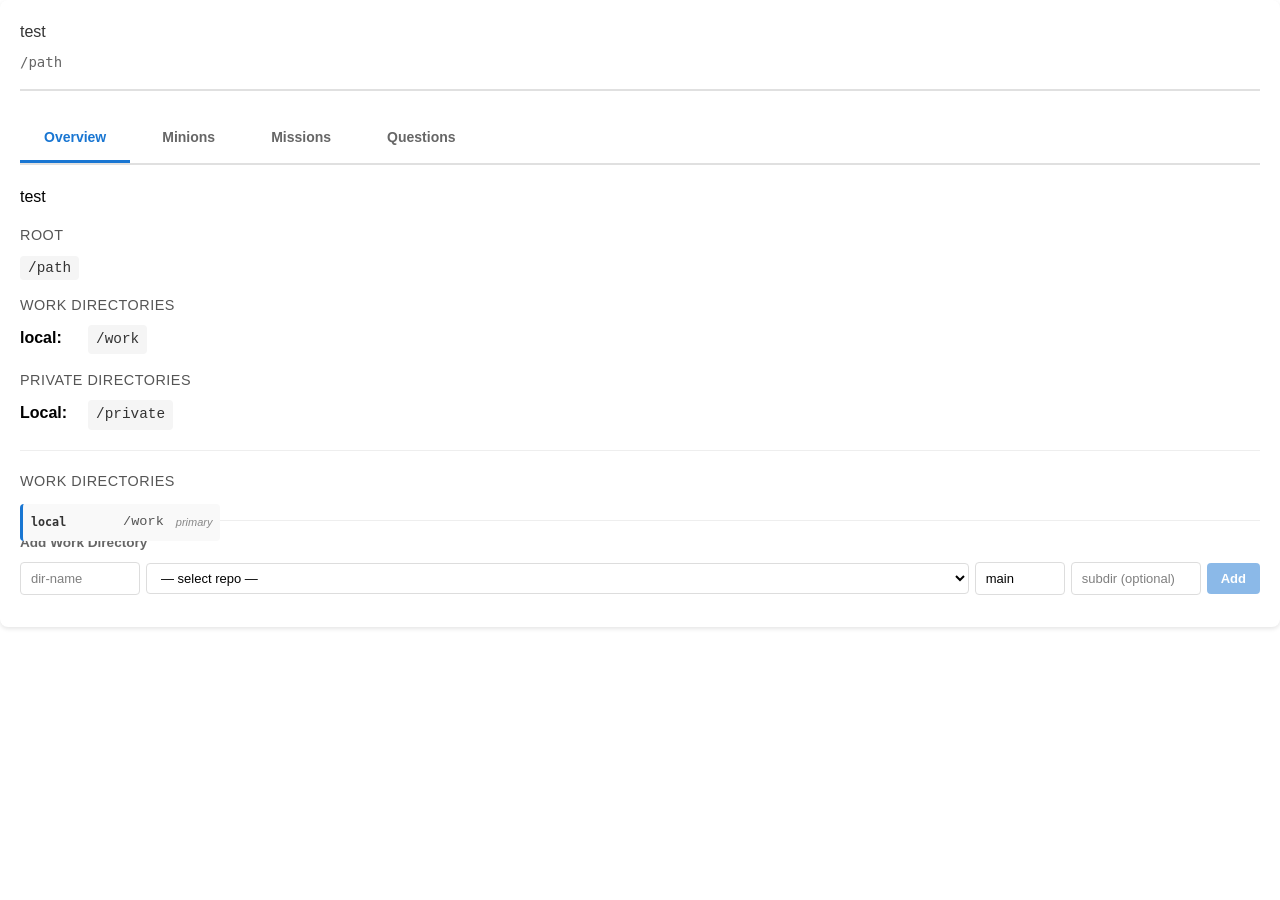
it: WingManagement › switches to missions tab when clicked
The width and height of the screenshot is (1280, 900).
Missions is at index 2 (after Overview, Minions)
What coordinates should you click on to do the following:
click the button with class "tab-button" showing "Missions"
I would click on:
 (301, 139)
Its box is [247,115,355,163].
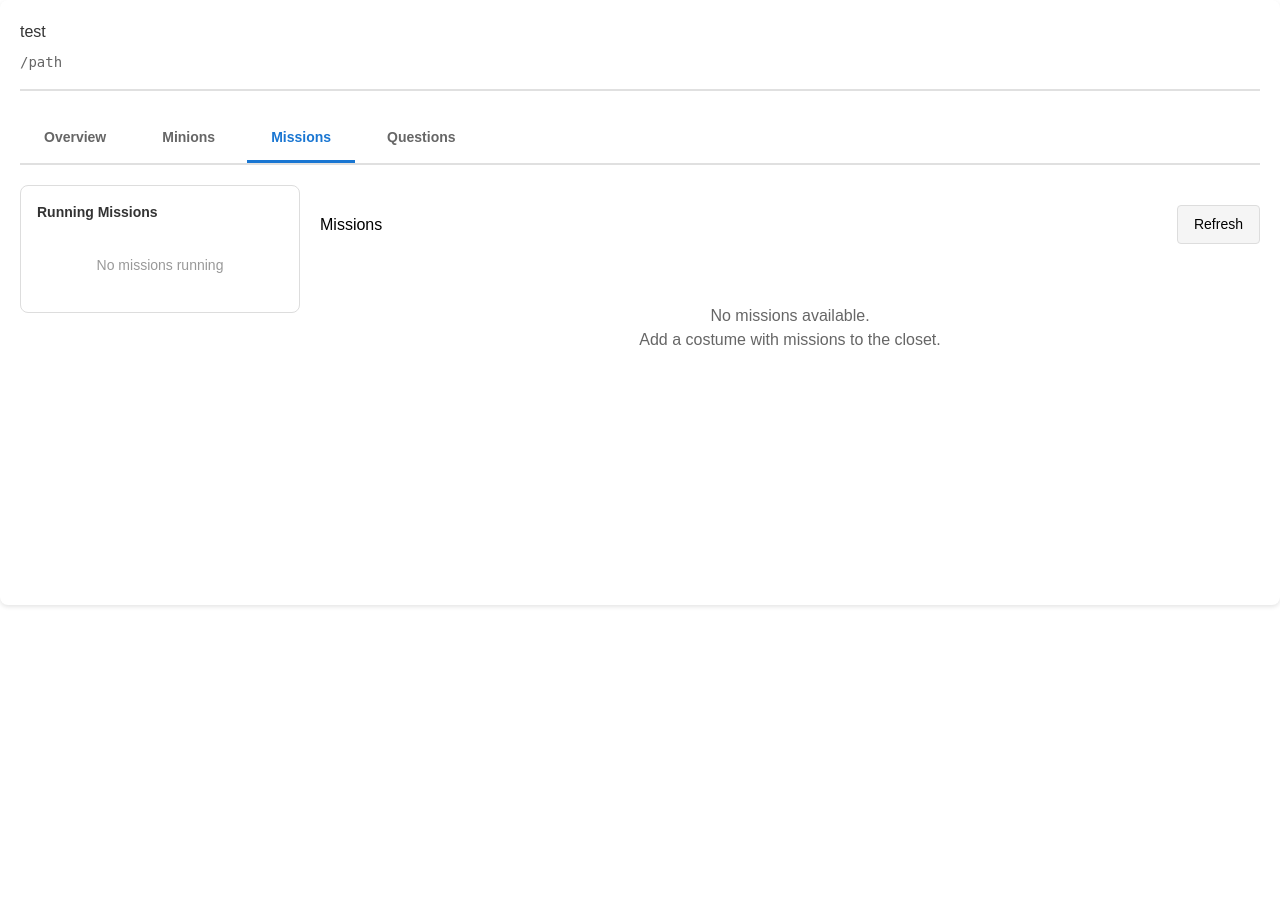
Expected: the element that starts with "Running Missions" is shown, [20,185,1260,392]
